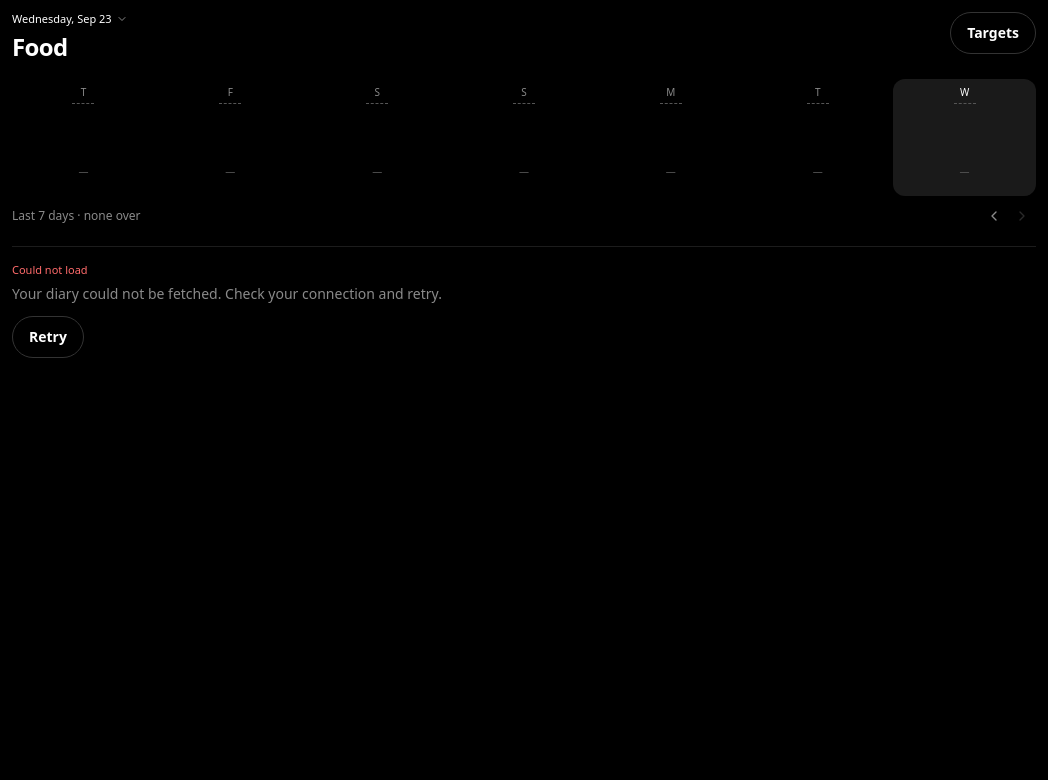
it: NutritionPage errors › shows one message for a failed first load, and retries from it
Expected: the text "Could not load" is shown, [12, 262, 88, 277]
Click the button "Retry".
click(48, 337)  # box [12, 316, 84, 358]
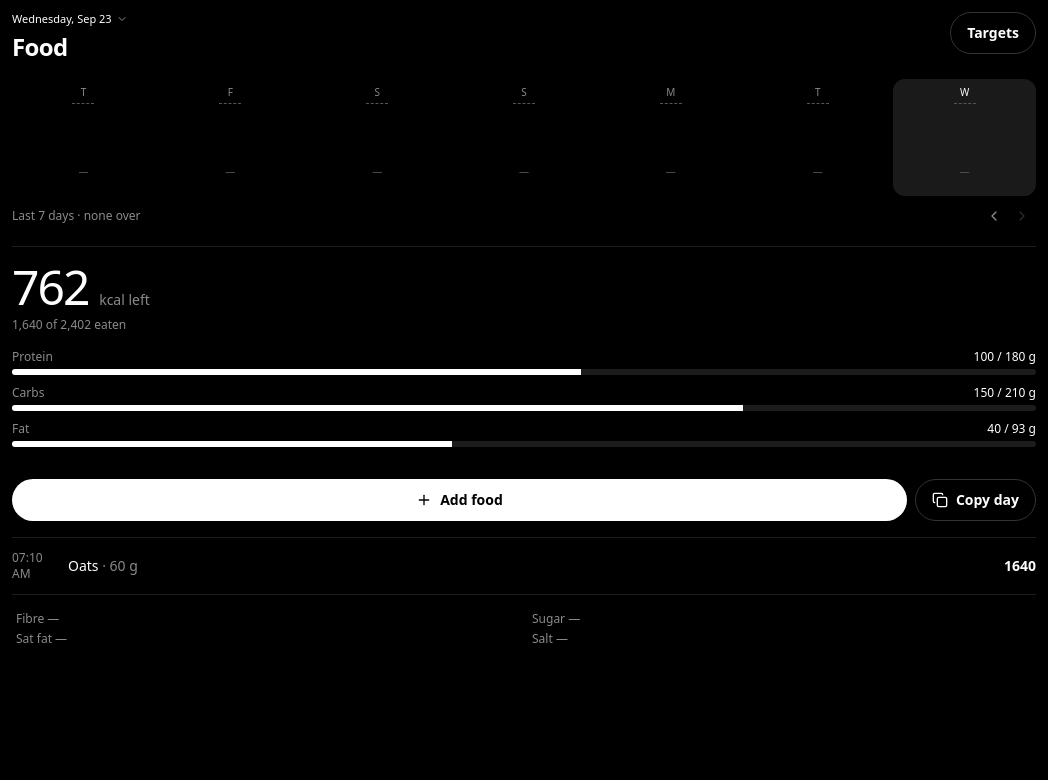
Expected: the element showing "762 kcal left" is shown, [12, 254, 150, 319]
